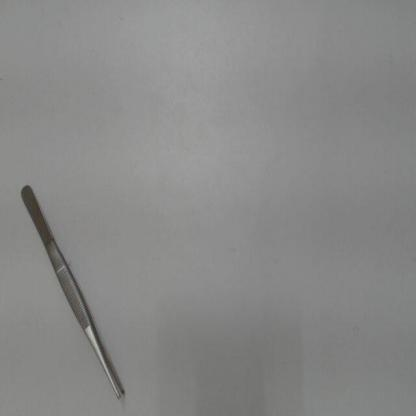Gillies Toothed Dissector: (11, 170, 136, 412)
